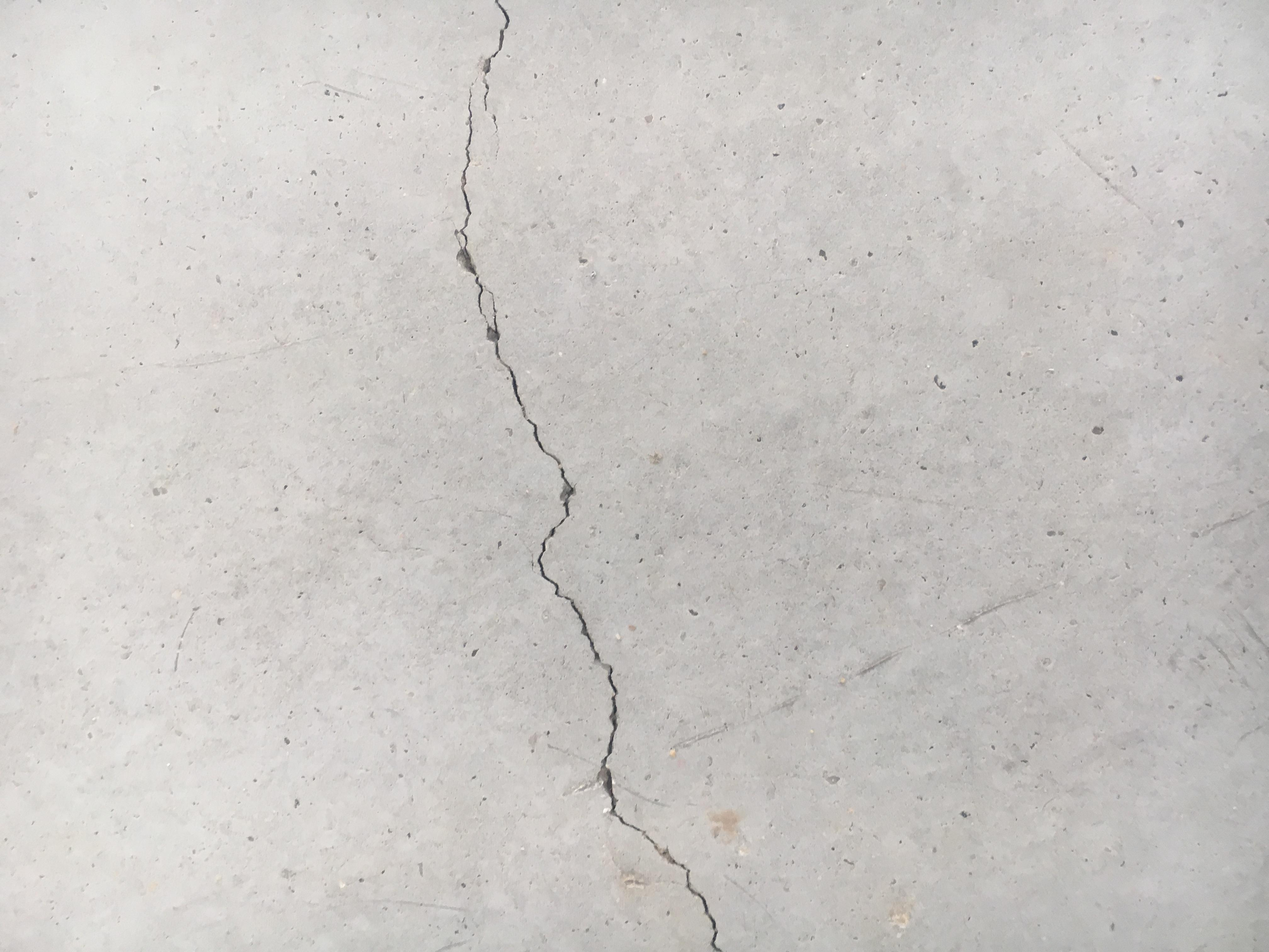Vertical Crack: (451, 3, 723, 948)
